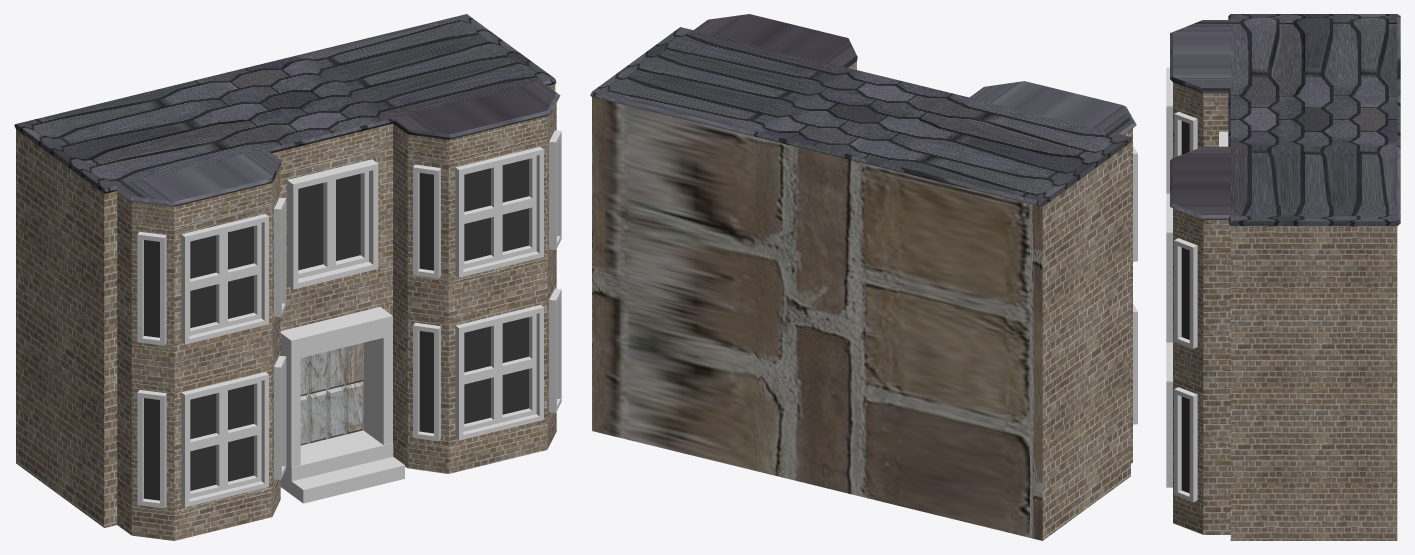
File: House_C.fbx
3 renders of one model, left to right at view 1: azimuth 30°, elevation 25°; view 2: azimuth 150°, elevation 25°; view 3: azimuth 270°, elevation 25°, orthographic. The views are drawn at different scales.
Parts seen in each view (by area): view 1: House_C_LOD0; view 2: House_C_LOD0; view 3: House_C_LOD0.
Boxes of the visible parts, x1,y1,x2,y2 form: House_C_LOD0: (14, 14, 561, 540); House_C_LOD0: (590, 14, 1137, 540); House_C_LOD0: (1166, 14, 1400, 540).
Size of what is drawn, in the model's own units: 3614 by 2600 by 1728.
